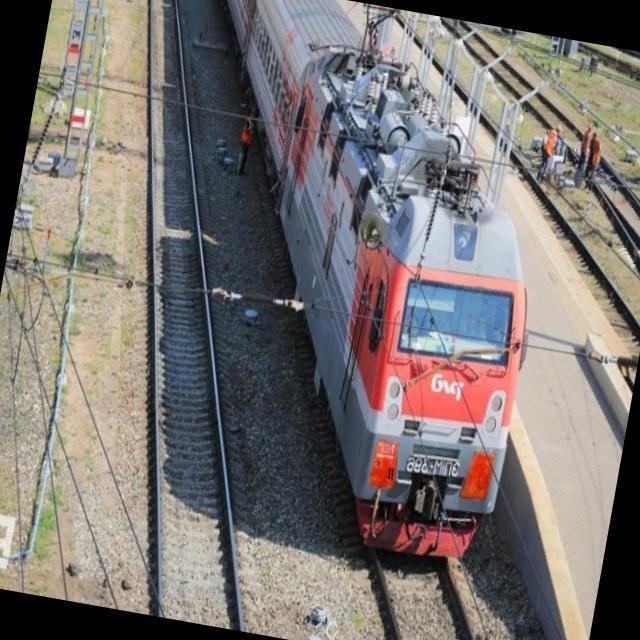rail-track: (151, 0, 245, 633), (376, 565, 473, 640)
trains: (224, 0, 530, 564)
